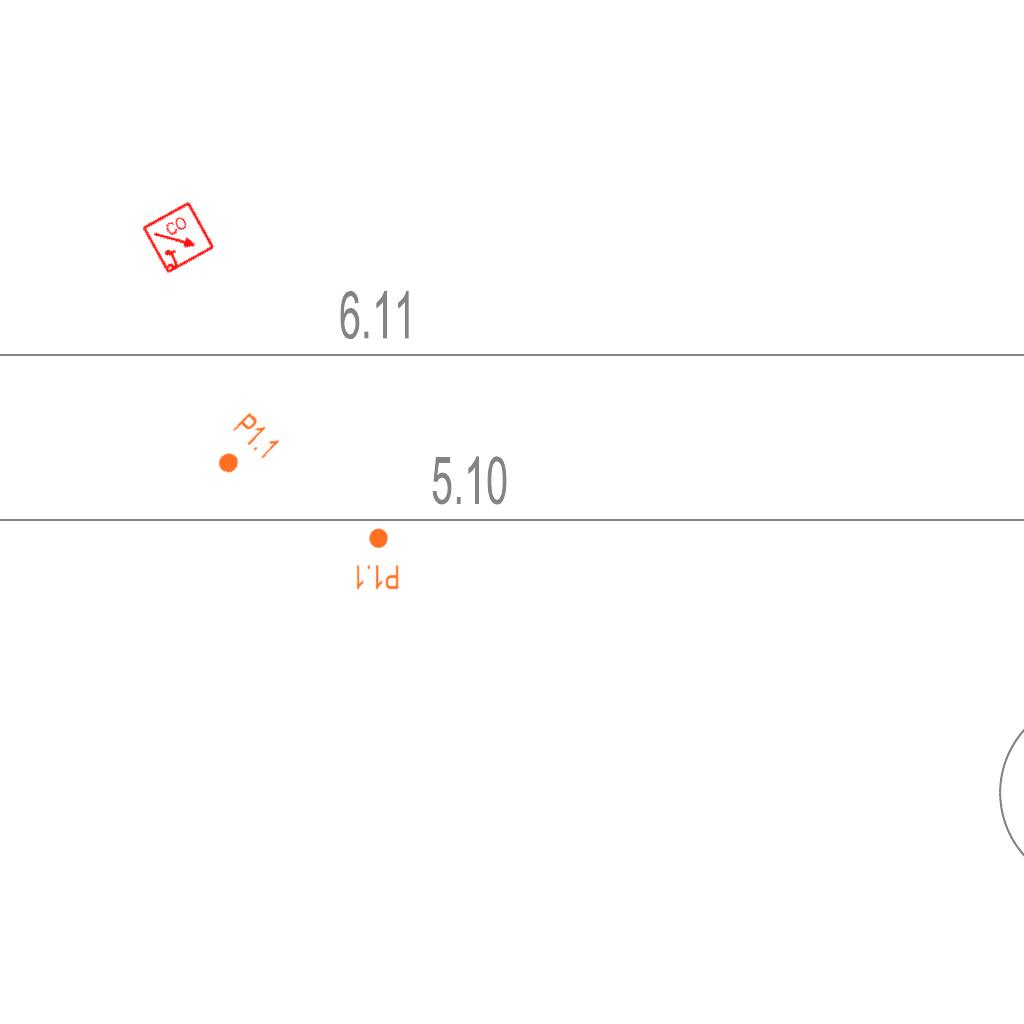Downlight_LED_Einbauleuchten_Flur: (205, 410, 283, 488), (354, 527, 400, 591)
ROA_Rauchmelder_optisch_mit_Signalgeber_(Sockelsirene): (140, 199, 218, 277)
